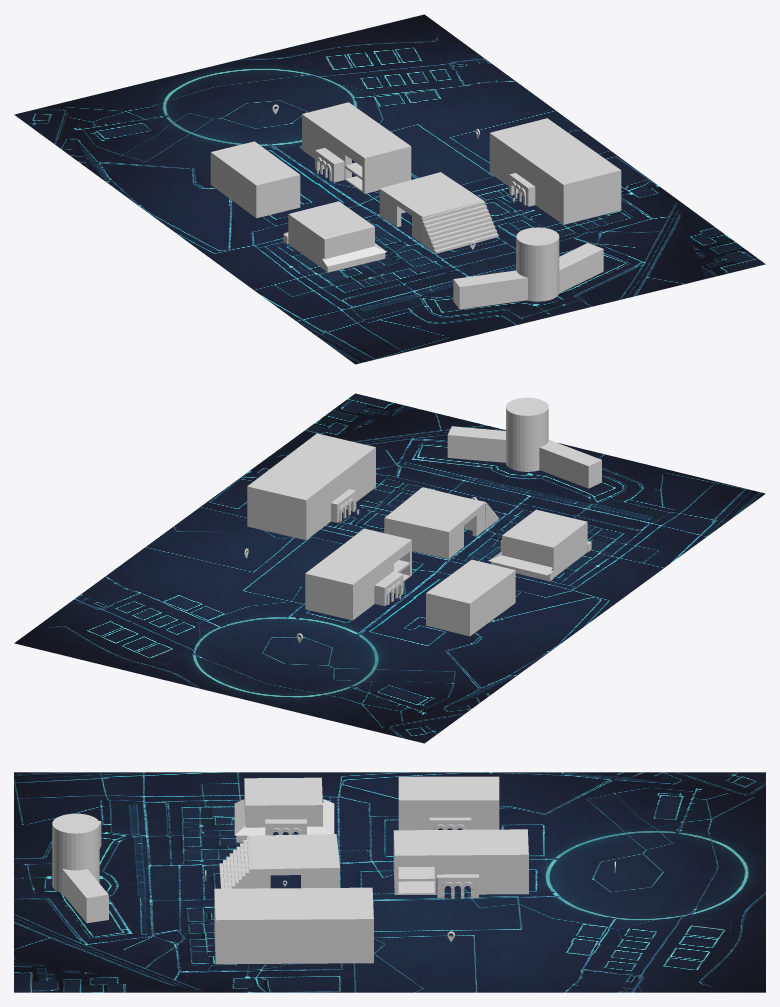
Rendered from basicmodel.glb.
3 renders of one model, top to bottom at view 1: azimuth 30°, elevation 25°; view 2: azimuth 150°, elevation 25°; view 3: azimuth 270°, elevation 25°, orthographic. The views are drawn at different scales.
Visible parts, largest first — view 1: Ground, AB2, LHC, AB3, AB1, Mess, domemid, Stairs, domeLl, domeR; view 2: Ground, AB2, LHC, AB3, Mess, AB1, domemid, domeLl, domeR; view 3: Ground, AB2, LHC, AB3, Mess, AB1, domemid, domeR, Stairs, AB1extend.004, AB1extend, AB1extend.001.
Part boxes in pixels (box(x1,y1,x2,y2)): Ground: box(14, 14, 765, 364); AB2: box(489, 118, 621, 224); LHC: box(302, 102, 411, 193); AB3: box(210, 141, 300, 218); AB1: box(288, 201, 374, 269); Mess: box(379, 172, 483, 243); domemid: box(516, 227, 559, 301); Stairs: box(421, 201, 498, 253); domeLl: box(453, 270, 527, 309); domeR: box(559, 243, 603, 292); Ground: box(14, 393, 765, 743); AB2: box(247, 433, 375, 540); LHC: box(305, 528, 411, 620); AB3: box(426, 559, 515, 636); Mess: box(384, 488, 485, 558); AB1: box(502, 509, 587, 577); domemid: box(506, 397, 548, 471); domeLl: box(539, 440, 601, 488); domeR: box(447, 426, 505, 462); Ground: box(14, 772, 765, 992); AB2: box(214, 887, 373, 964); LHC: box(393, 829, 528, 894); AB3: box(398, 776, 499, 830); Mess: box(248, 834, 339, 888); AB1: box(244, 777, 322, 827); domemid: box(52, 813, 99, 893); domeR: box(62, 868, 108, 923); Stairs: box(219, 836, 251, 888); AB1extend.004: box(437, 874, 478, 897); AB1extend: box(265, 819, 306, 835); AB1extend.001: box(429, 817, 471, 829).
Size of the model in its own units: 559 by 92.52 by 805.
24 materials, 1 textured.
